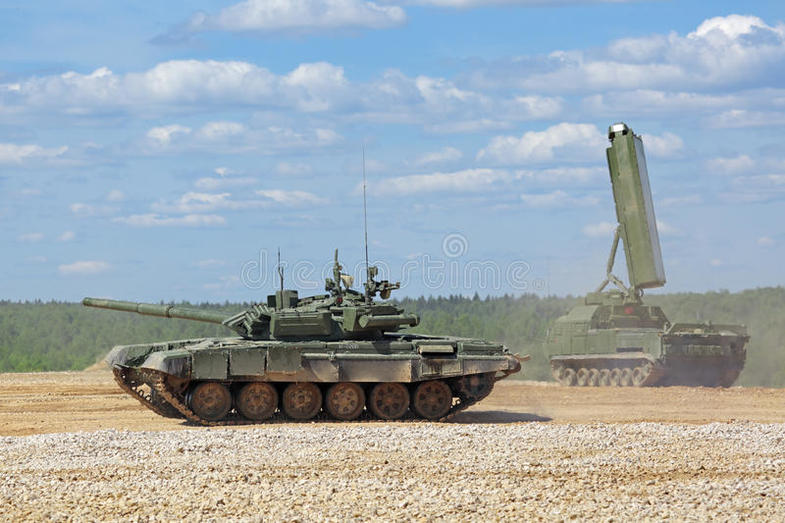t72: (75, 285, 527, 420)
